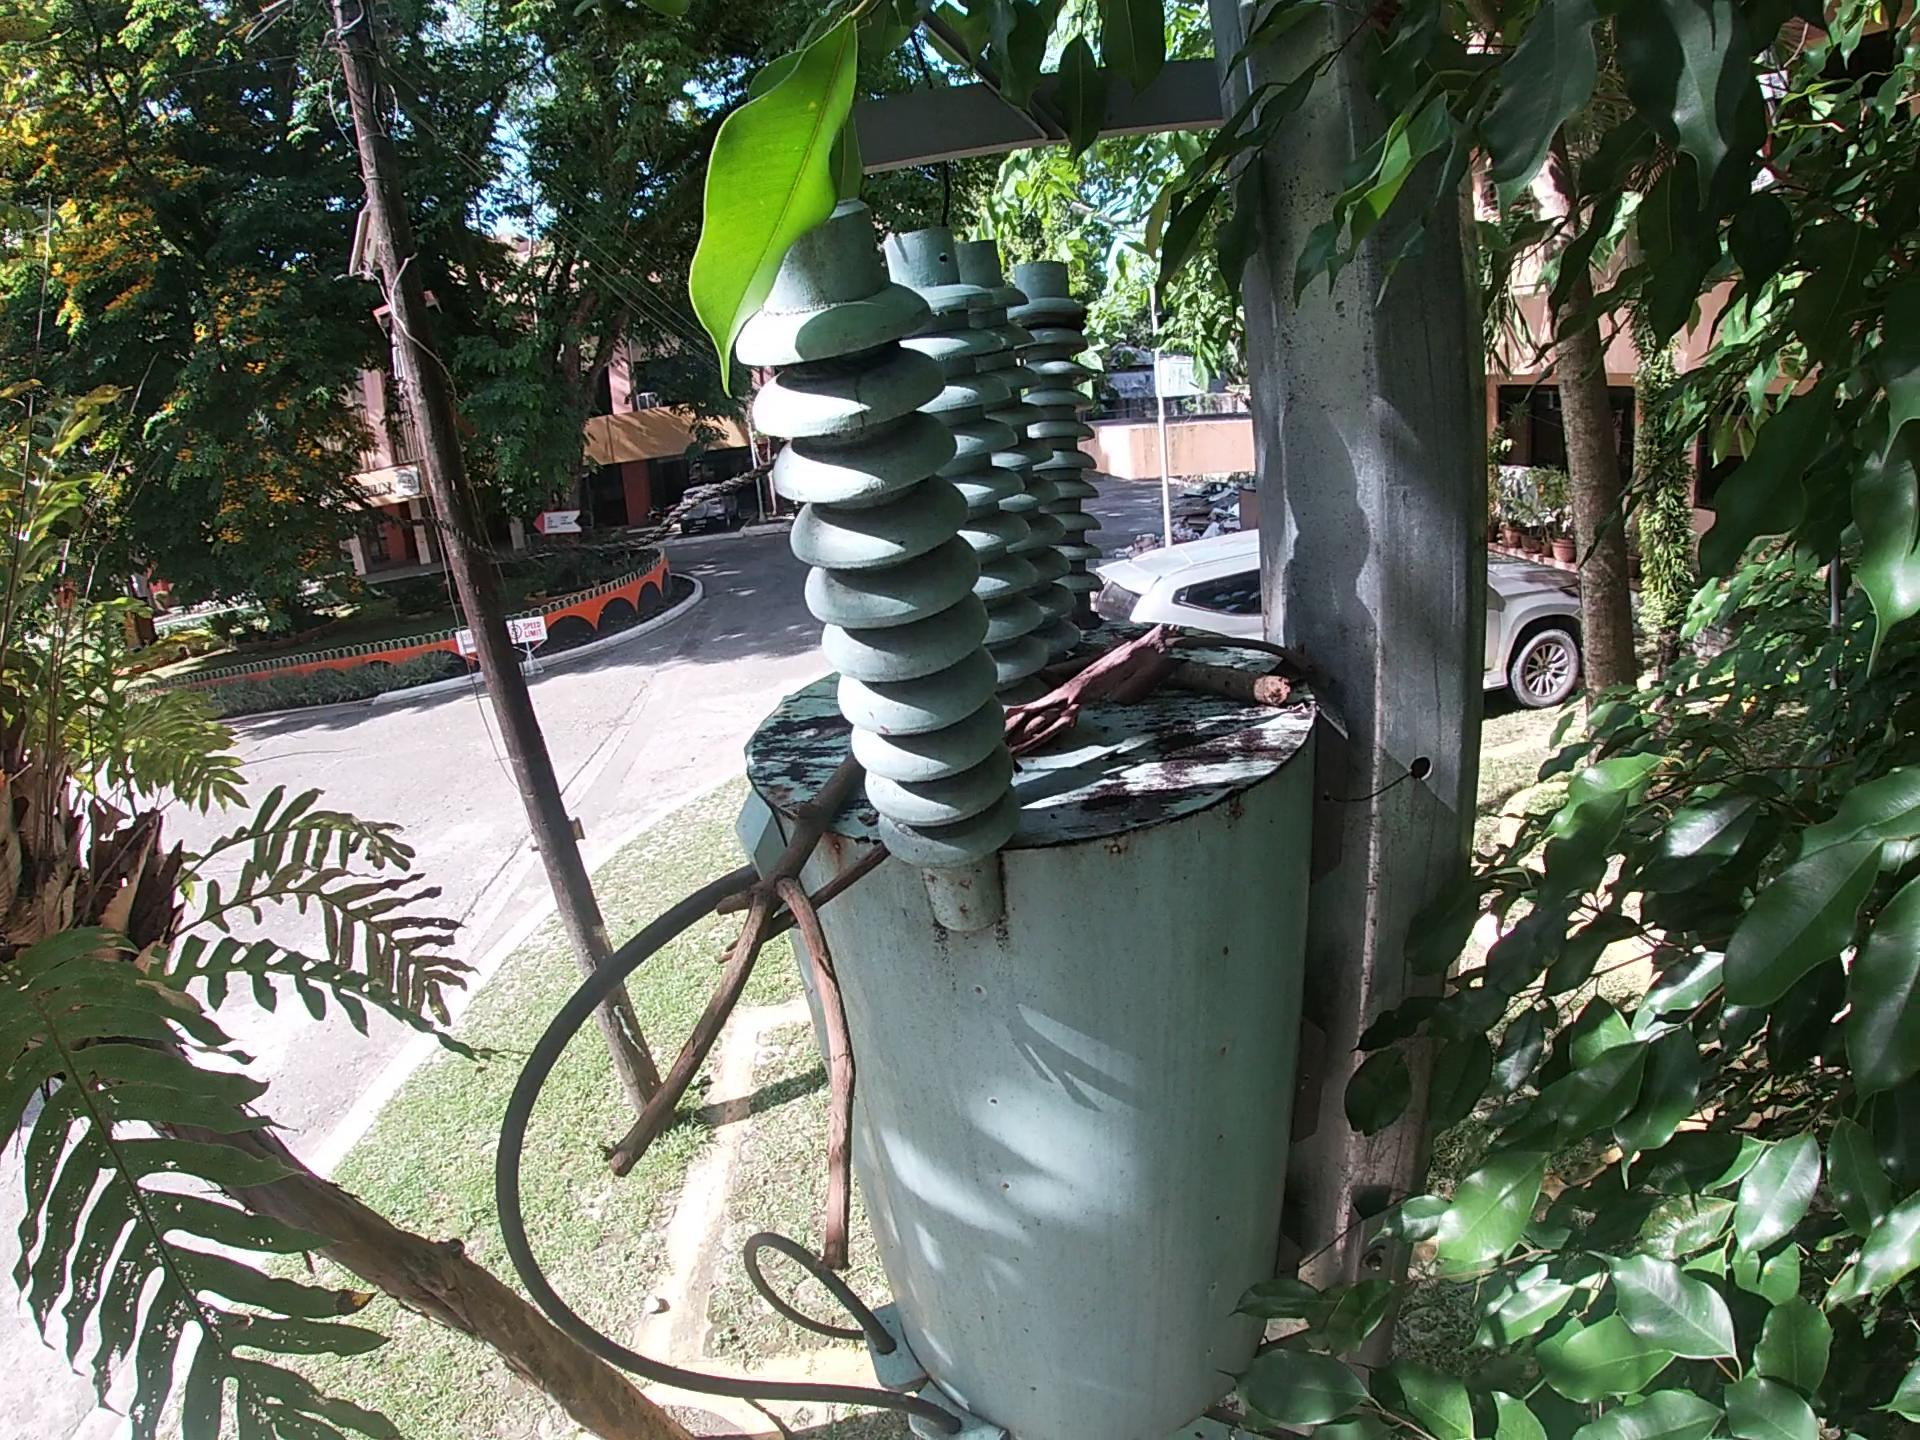tree branch: (587, 759, 866, 1263), (1001, 625, 1178, 743), (1022, 638, 1338, 681), (1042, 655, 1299, 706)
